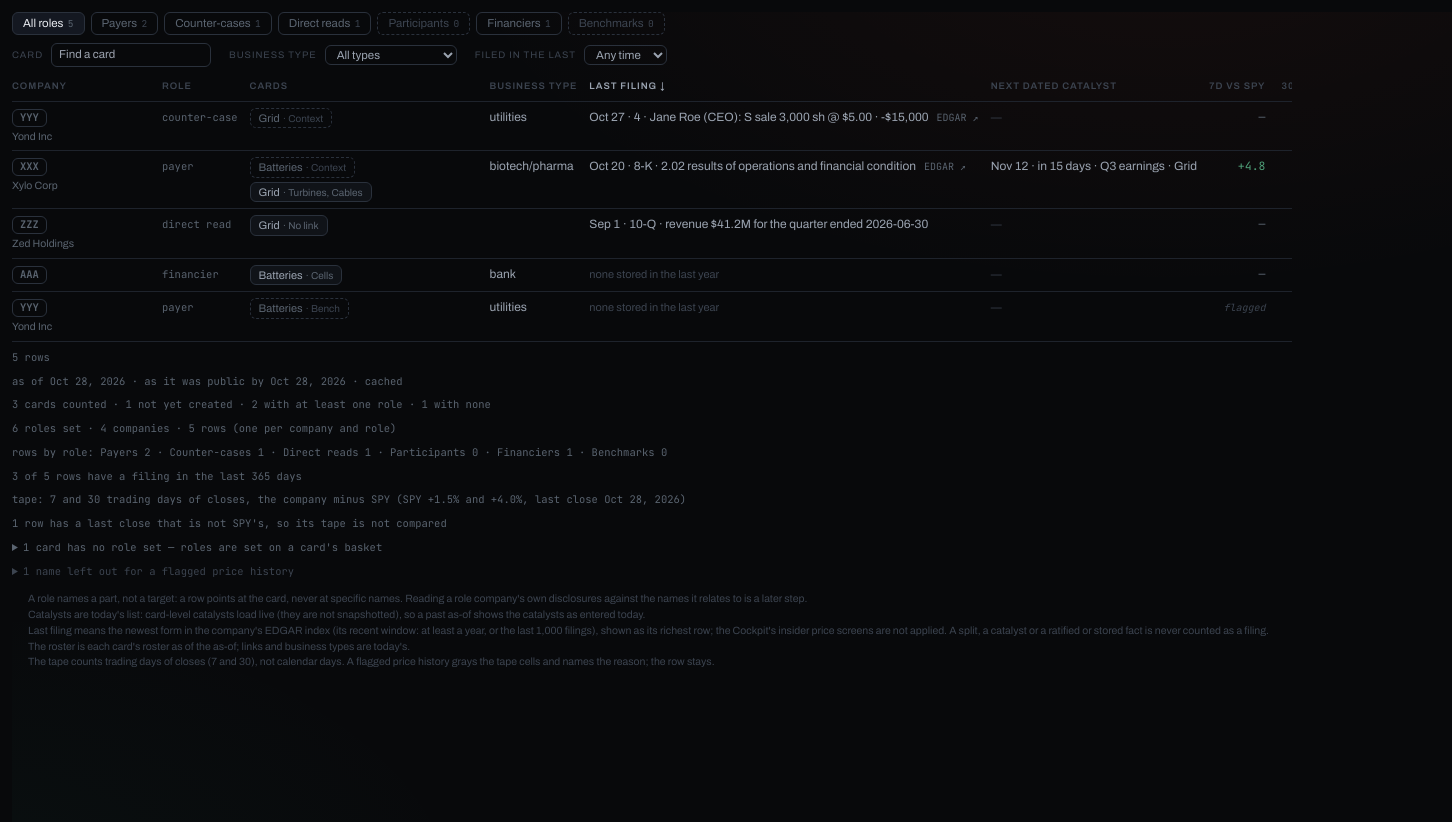
Test: ReadThrough — the tabs › narrows the table to a role and back
The width and height of the screenshot is (1452, 822).
Click the tab "Payers 2".
click(124, 24)  # box [90,12,158,35]
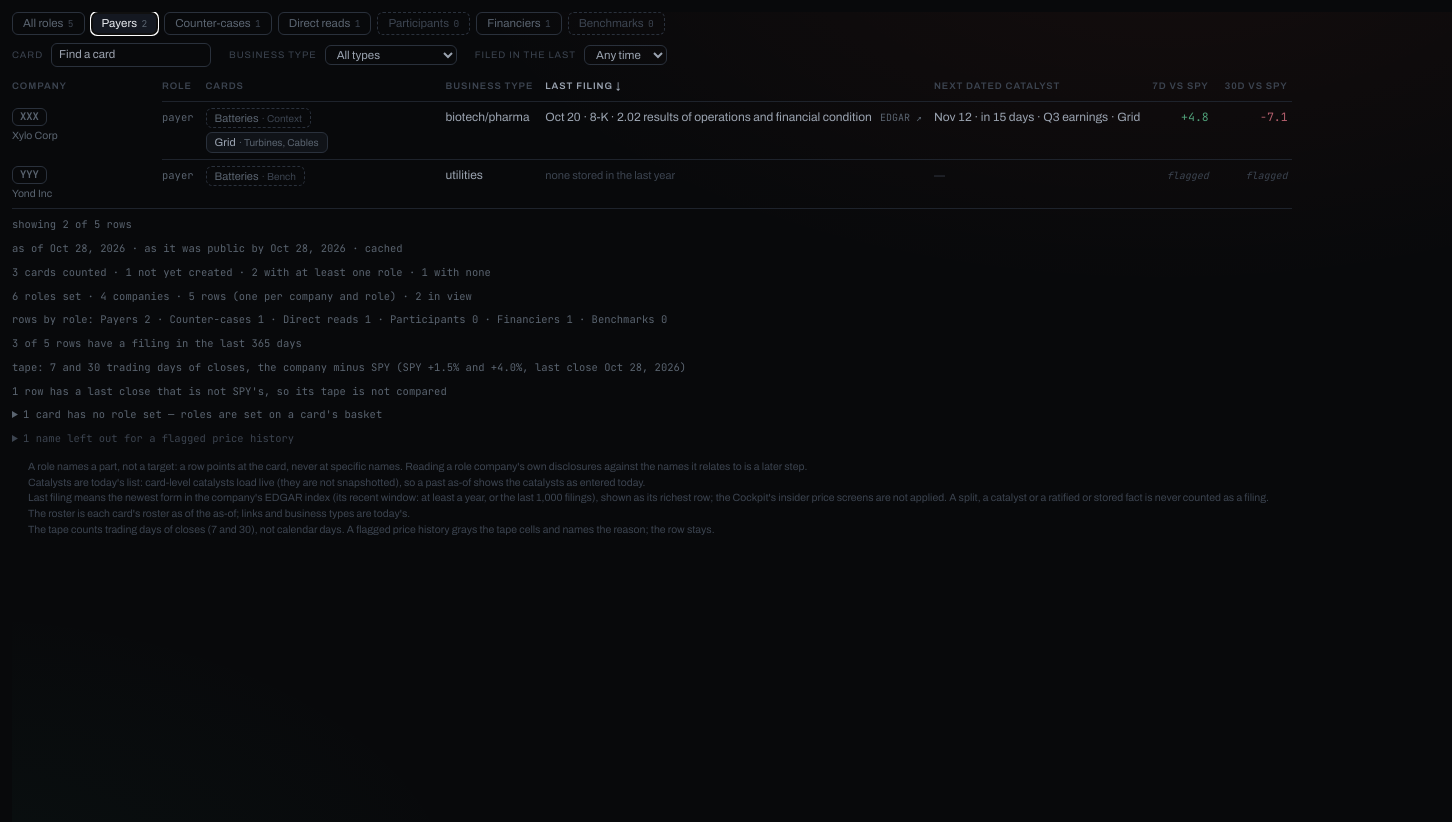
Expected: the tab "Payers 2" is selected, [90,12,158,35]
Click the tab "Financiers 1".
click(519, 24)  # box [476,12,562,35]
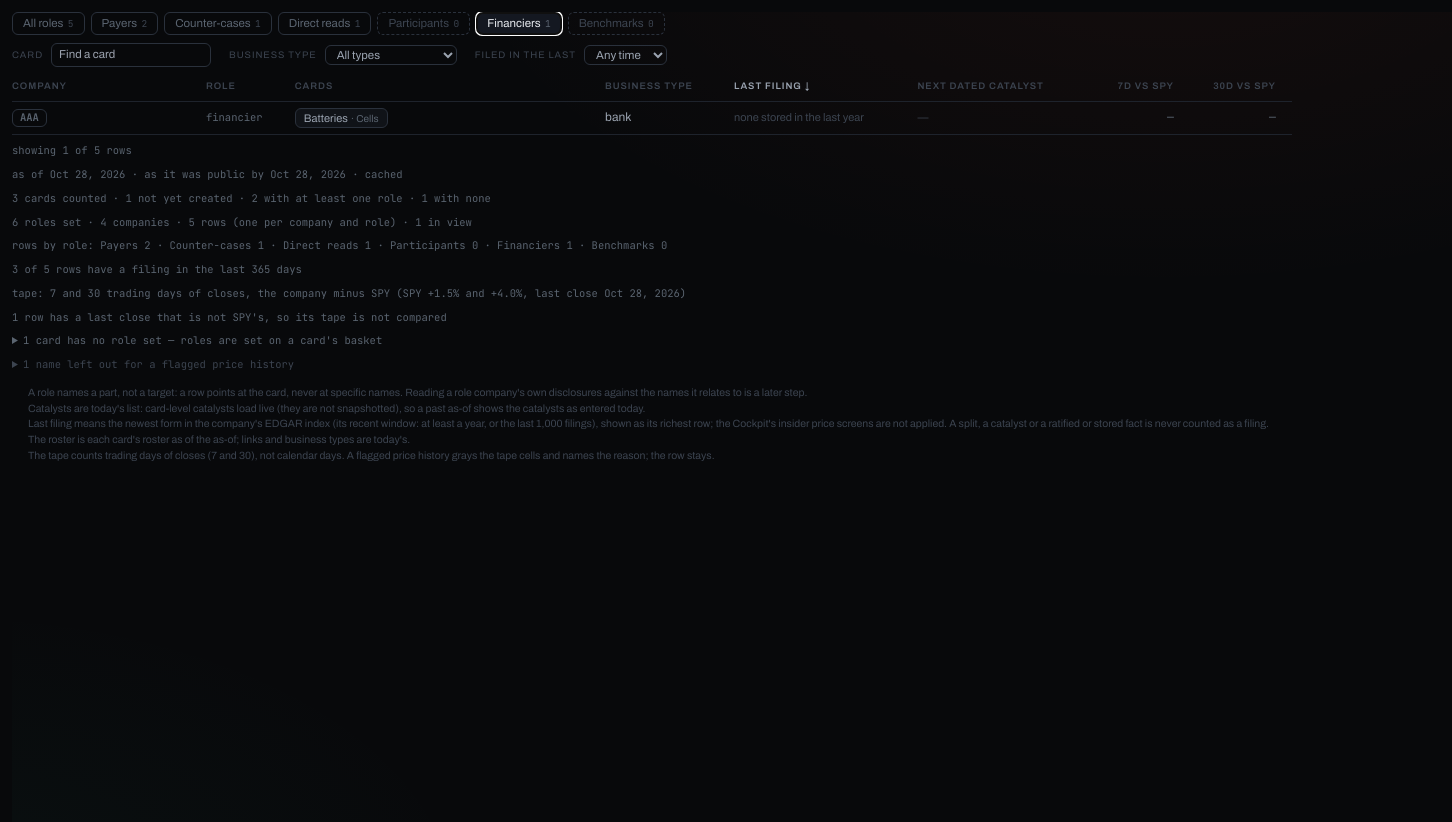
Click the tab "All roles 5".
click(48, 24)  # box [12,12,84,35]
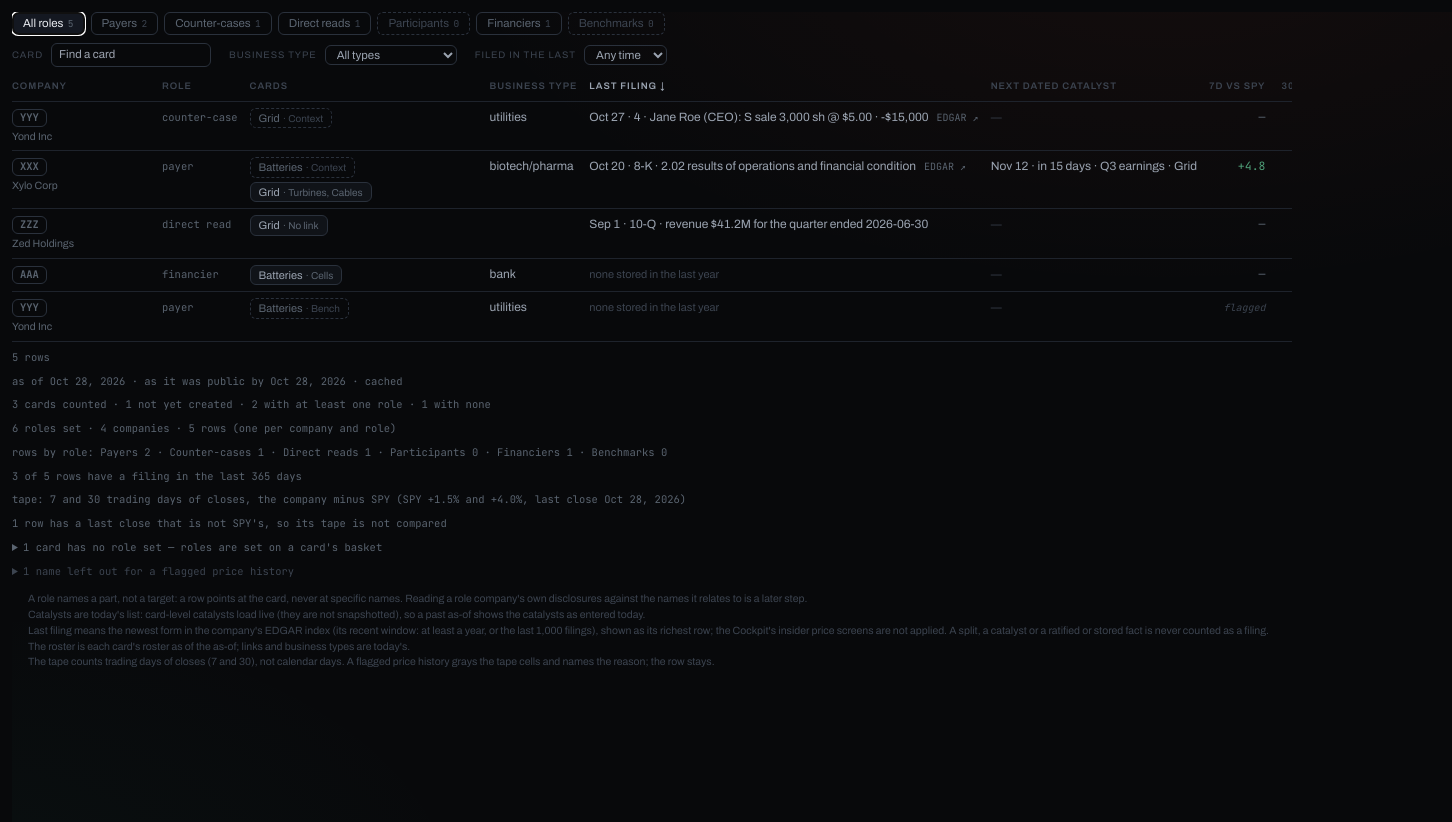
Expected: the number of rows with test id "rt-row" is 5, [12,101,1292,151]; [12,151,1292,209]; [12,209,1292,258]; [12,258,1292,292]; [12,292,1292,341]
